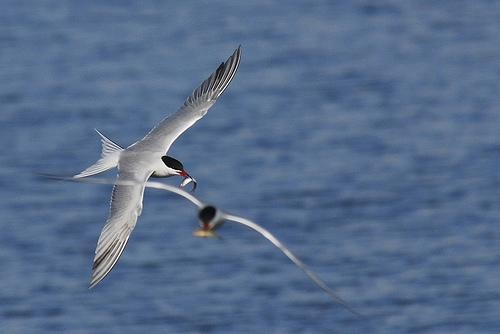bird: (34, 166, 370, 320), (54, 43, 246, 283)
